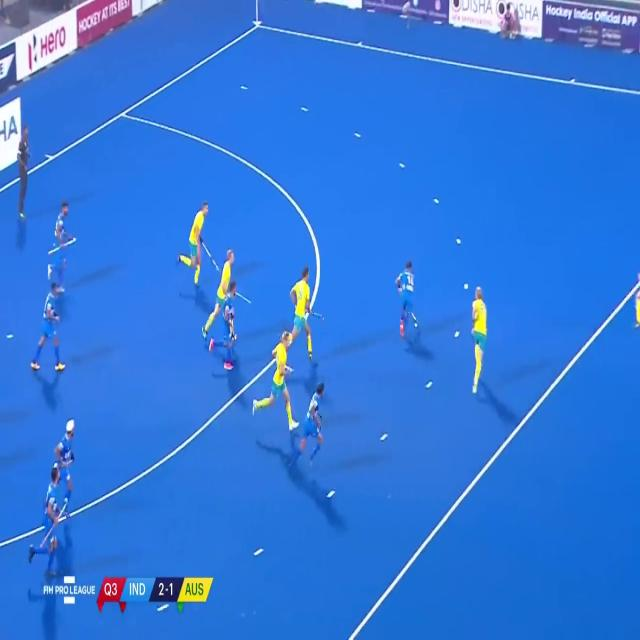ball: (411, 316, 421, 332)
